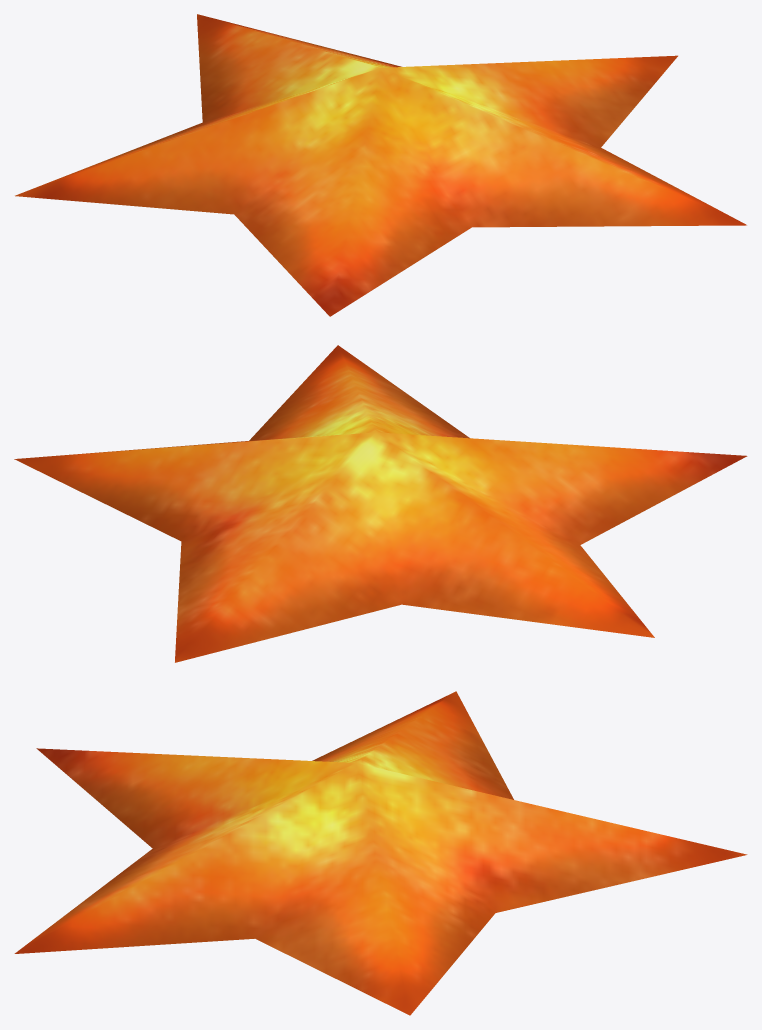
Rendered from hitode.fbx.
3 views of the same model, one above another, from view 1: azimuth 30°, elevation 25°; view 2: azimuth 150°, elevation 25°; view 3: azimuth 270°, elevation 25° (orthographic). The views are drawn at different scales.
Parts seen in each view (by area): view 1: hitode; view 2: hitode; view 3: hitode.
Part boxes in pixels (x1,y1,x2,y2): hitode: (15, 14, 746, 316); hitode: (14, 345, 747, 662); hitode: (14, 691, 747, 1015).
Size of the model in its own units: 3.39 by 0.4332 by 3.24.
Materials: 1 (1 with a texture image).
